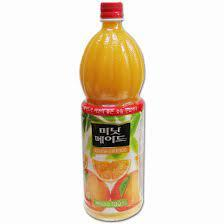minutemaid_org_orange: (75, 3, 148, 223)
